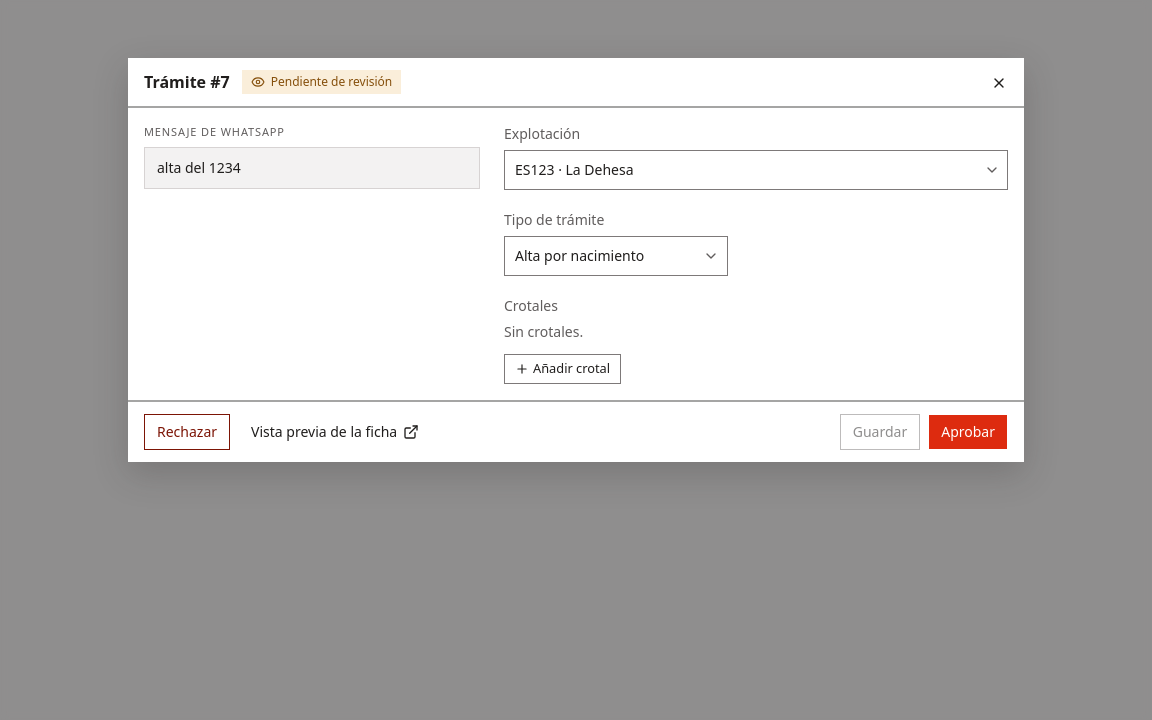
Test case: TramiteReviewDialog: errores visibles › el 403 de aprobar sigue mostrando el texto de la suscripción
The width and height of the screenshot is (1152, 720).
Expected: the heading "Trámite #7" is shown, [144, 70, 230, 94]
Click the button "Aprobar".
click(968, 432)  # box [928, 414, 1008, 450]
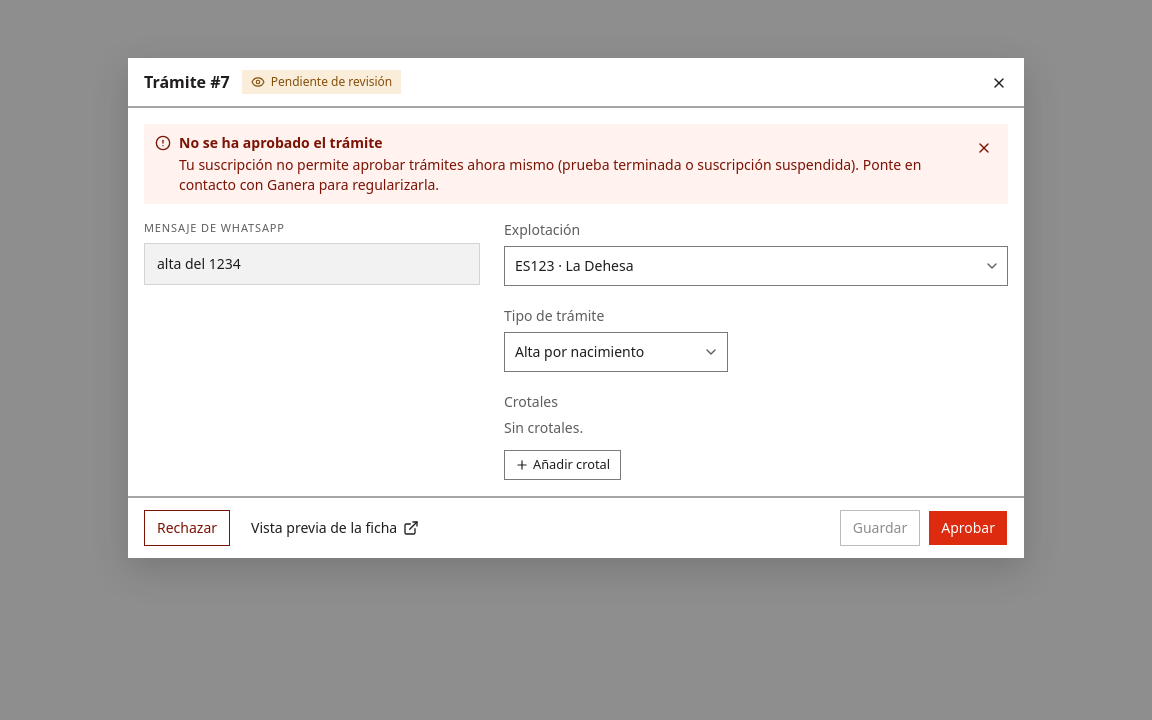
Expected: the text "Tu suscripción no permite aprobar trámites ahora mismo" is shown, [179, 155, 921, 194]
